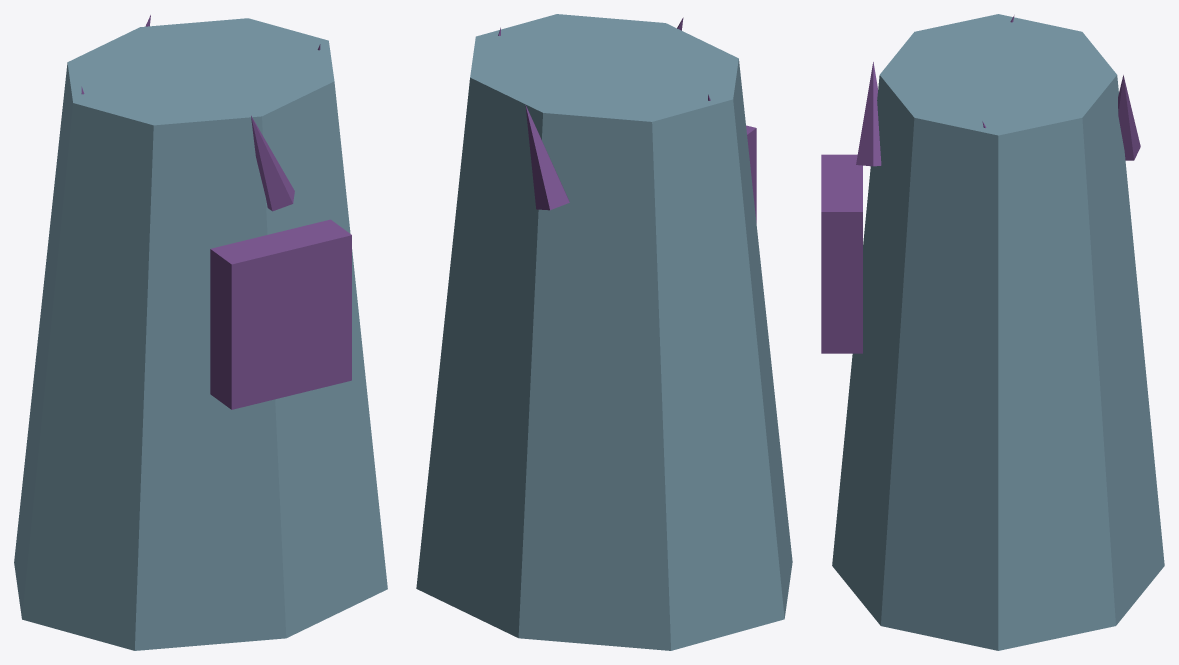
The model's file is hostile_torso_frost.glb.
The picture shows the model from 3 angles, left to right: view 1: azimuth 30°, elevation 25°; view 2: azimuth 150°, elevation 25°; view 3: azimuth 270°, elevation 25°; orthographic projection. The views are drawn at different scales.
Visible parts, largest first — view 1: hostile_torso_frost; view 2: hostile_torso_frost; view 3: hostile_torso_frost.
Part boxes in pixels (x1,y1,x2,y2): hostile_torso_frost: [14, 15, 387, 650]; hostile_torso_frost: [416, 14, 792, 650]; hostile_torso_frost: [821, 14, 1164, 650].
Bounding box in the file's own units: 0.7728 × 1.06 × 0.6592.
